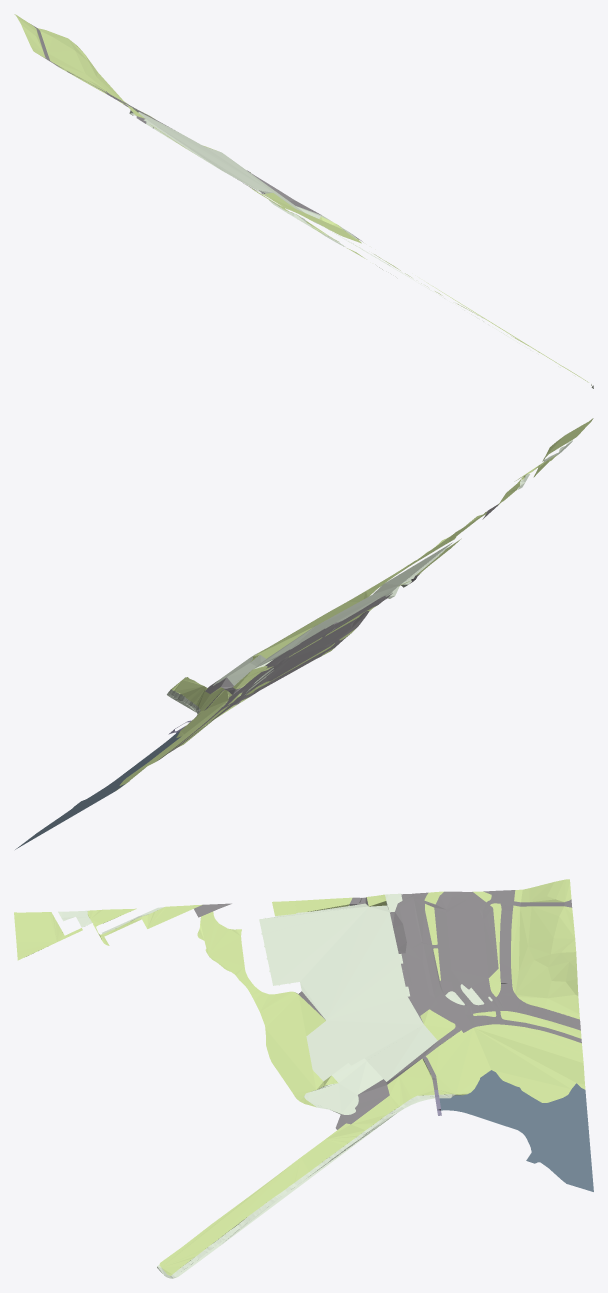
3 renders of one model, top to bottom at view 1: azimuth 30°, elevation 25°; view 2: azimuth 150°, elevation 25°; view 3: azimuth 270°, elevation 25°, orthographic. The views are drawn at different scales.
Size of the model in its own units: 160 by 125 by 260.
